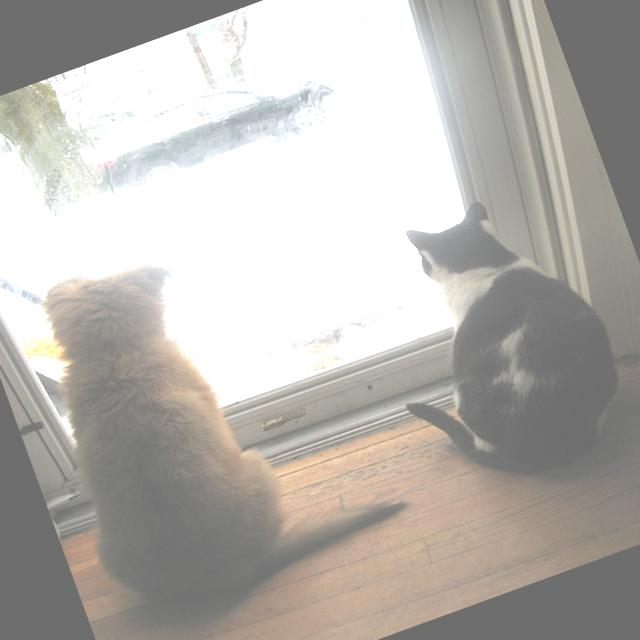Vehicle: (68, 52, 342, 210)
